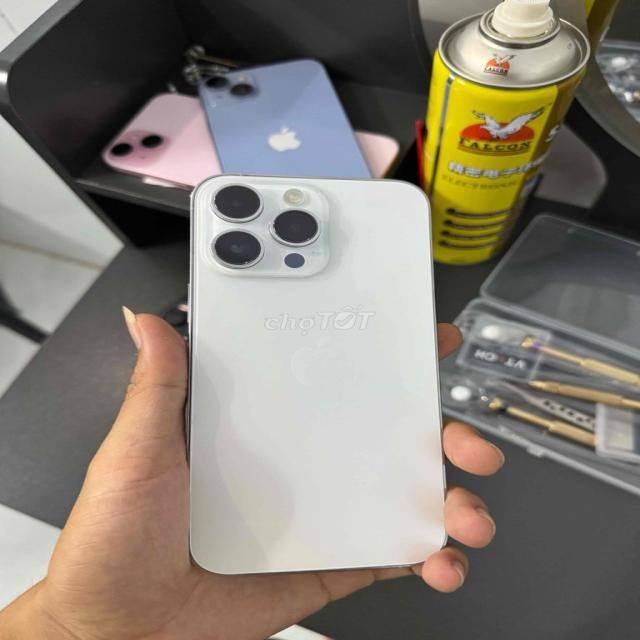gen_14: (181, 173, 457, 579)
